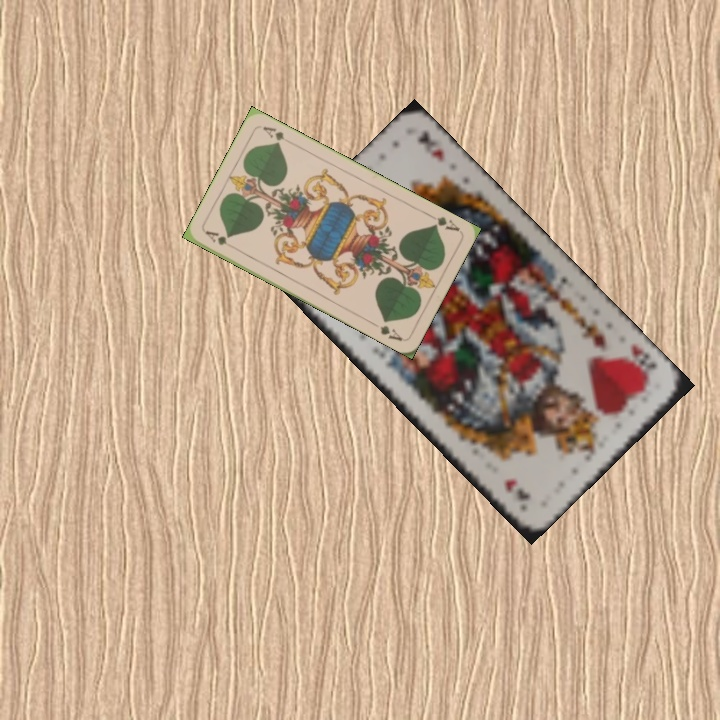GA: (201, 226, 239, 252), (424, 210, 462, 234)
HK: (626, 341, 661, 386)
